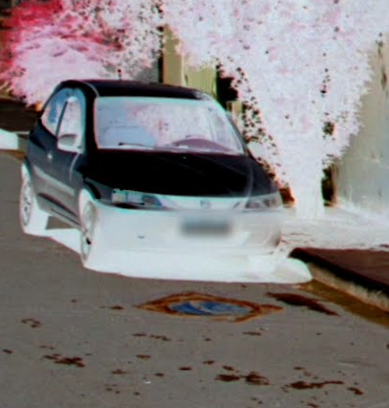car: (12, 76, 287, 282)
